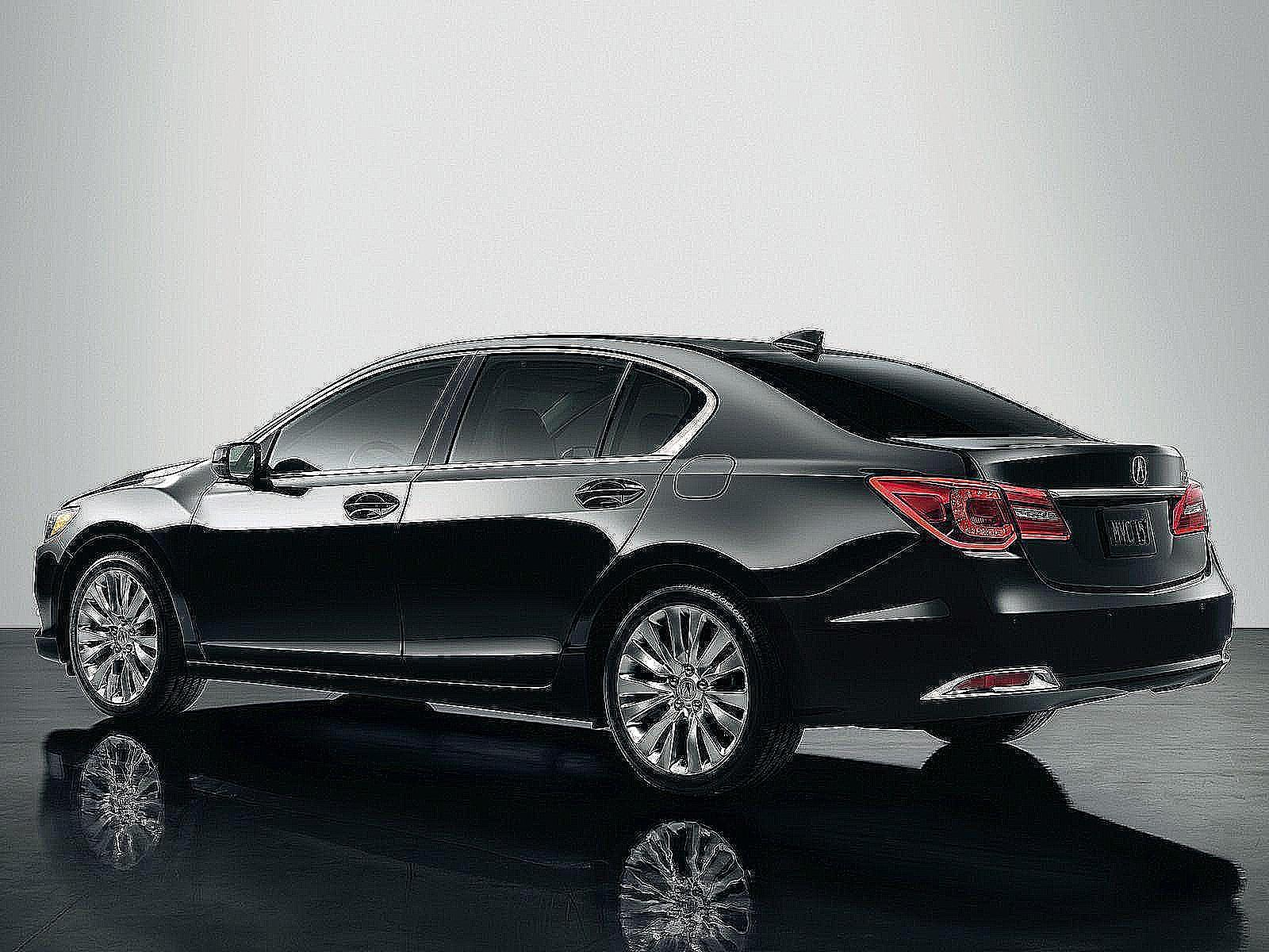Car boot: (884, 429, 1218, 596)
Car hood: (101, 451, 206, 490)
Fender - -F-L-: (80, 459, 214, 665)
Fender - -R-L-: (568, 394, 928, 690)
Front bumper: (24, 544, 75, 667)
Headlight - -L-: (32, 497, 97, 554)
Passenger-s door - -F-L-: (217, 346, 446, 691)
Passenger-s door - -R-L-: (422, 339, 720, 703)
Rear bumper: (760, 554, 1247, 742)
Rear light - -L-: (857, 467, 1081, 554)
Rear light - -R-: (1164, 467, 1231, 548)
Side bumper - -L-: (171, 638, 618, 743)
Side mirror - -L-: (203, 429, 266, 486)
